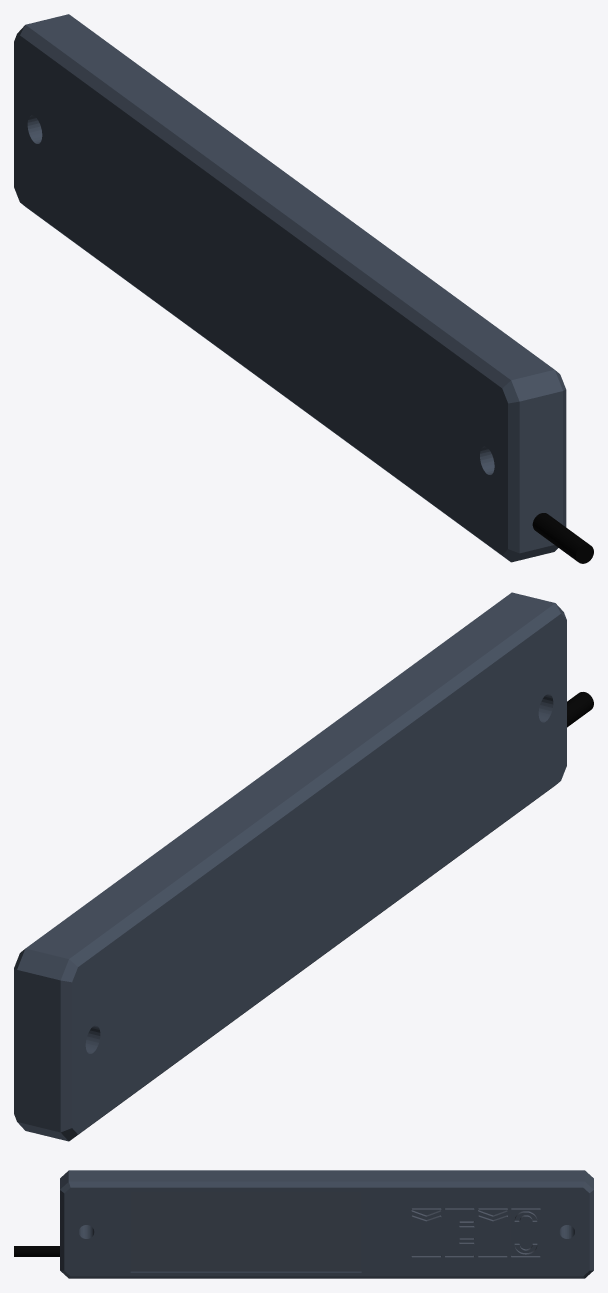
File: READER V-Color-2.glb
The picture shows the model from 3 angles, top to bottom: view 1: azimuth 30°, elevation 25°; view 2: azimuth 150°, elevation 25°; view 3: azimuth 270°, elevation 25°; orthographic projection. The views are drawn at different scales.
Parts seen in each view (by area): view 1: mesh_0, Cylinder; view 2: mesh_0; view 3: mesh_0, mesh_0.001, Logo-Memo.svg.001, Cylinder.
Boxes of the visible parts, x1,y1,x2,y2 form: mesh_0: [14, 14, 566, 562]; Cylinder: [532, 513, 593, 563]; mesh_0: [14, 592, 566, 1141]; mesh_0: [60, 1170, 593, 1278]; mesh_0.001: [130, 1191, 361, 1271]; Logo-Memo.svg.001: [411, 1208, 540, 1257]; Cylinder: [14, 1246, 59, 1256].
Bounding box in the file's own units: 0.2726 × 0.7522 × 4.08.
